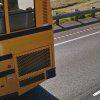Bus: (2, 1, 61, 100)
